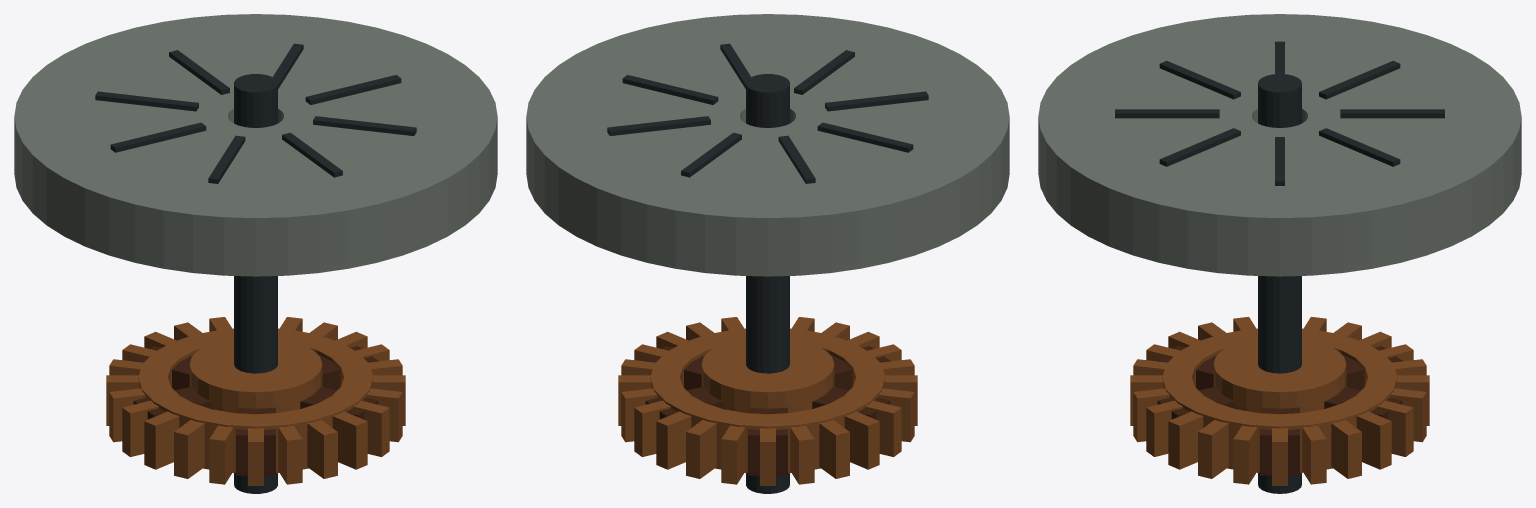
Rendered from runner.obj.
The picture shows the model from 3 angles, left to right: view 1: azimuth 30°, elevation 25°; view 2: azimuth 150°, elevation 25°; view 3: azimuth 270°, elevation 25°; orthographic projection.
Parts seen in each view (by area): view 1: runner_stone, runner_wood, runner_iron, runner_timber; view 2: runner_stone, runner_wood, runner_iron, runner_timber; view 3: runner_stone, runner_wood, runner_iron, runner_timber.
Boxes of the visible parts, x1,y1,x2,y2 form: runner_stone: [14, 14, 497, 276]; runner_wood: [106, 317, 405, 485]; runner_iron: [95, 43, 416, 493]; runner_timber: [133, 346, 378, 475]; runner_stone: [526, 14, 1009, 276]; runner_wood: [618, 317, 917, 485]; runner_iron: [607, 43, 928, 493]; runner_timber: [645, 346, 890, 475]; runner_stone: [1038, 14, 1521, 276]; runner_wood: [1130, 317, 1429, 485]; runner_iron: [1115, 41, 1444, 493]; runner_timber: [1157, 346, 1402, 475].
Size of the model in its own units: 1.2 by 1.1 by 1.2.
